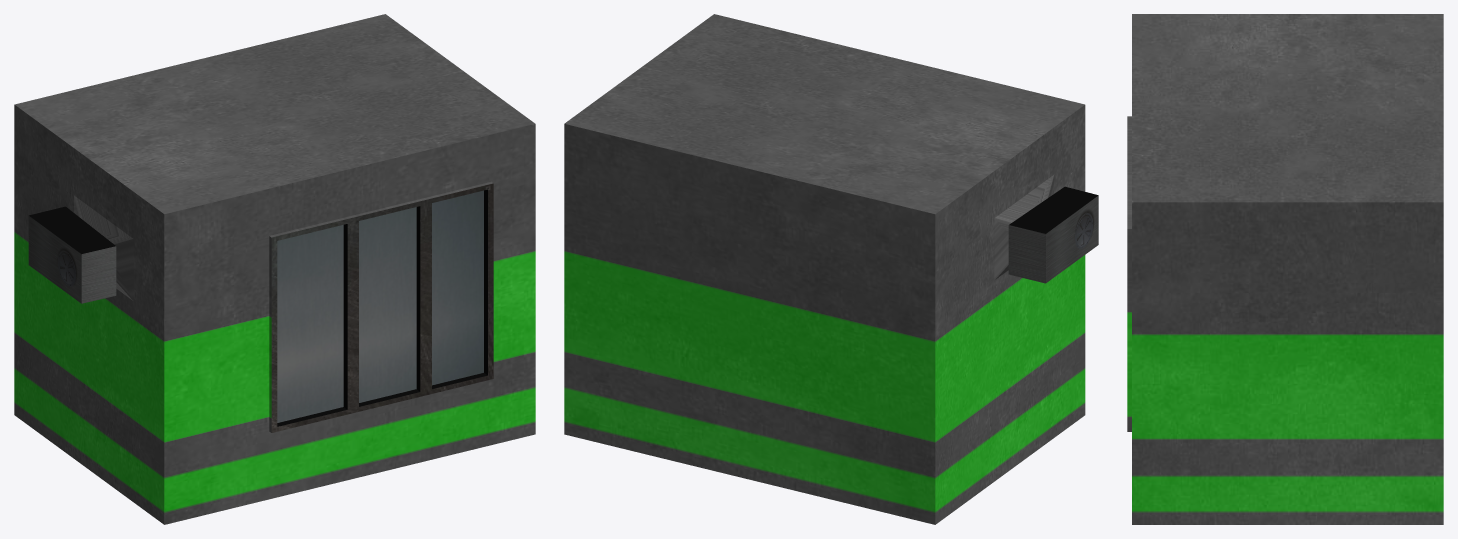
The model's file is buildingCima.obj.
3 renders of one model, left to right at view 1: azimuth 30°, elevation 25°; view 2: azimuth 150°, elevation 25°; view 3: azimuth 270°, elevation 25°, orthographic. The views are drawn at different scales.
Parts seen in each view (by area): view 1: Cube; view 2: Cube; view 3: Cube.
Boxes of the visible parts, box(x1,y1,x2,y2) form: Cube: box(14, 14, 535, 524); Cube: box(564, 14, 1098, 524); Cube: box(1127, 14, 1443, 524).
Bounding box in the file's own units: 11.3 × 8 × 7.1.
